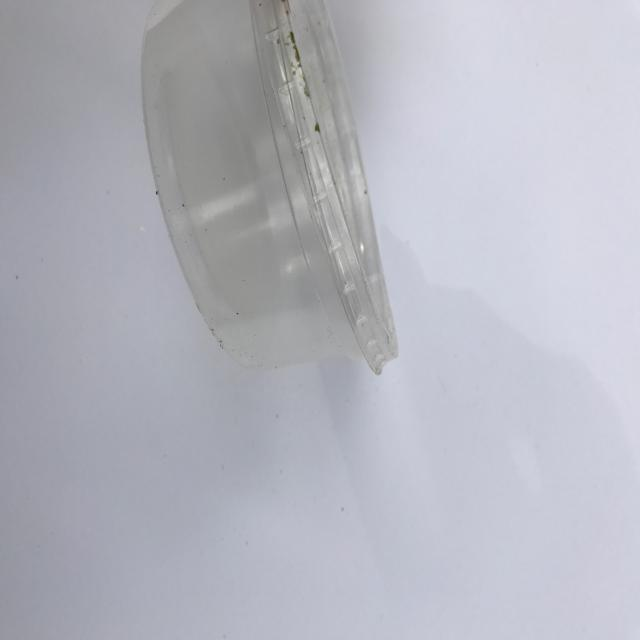plastic: (136, 2, 401, 379)
